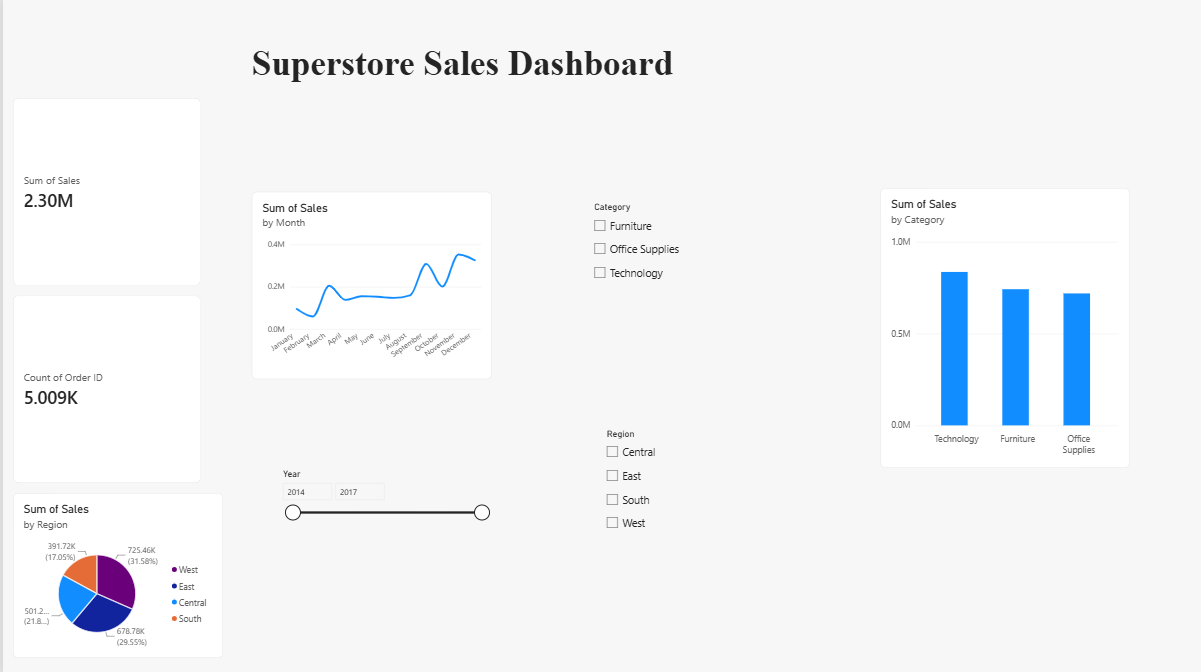

The dashboard page shown, as its layout file describes it:
{"tool":"powerbi","page":{"name":"Page 1","canvas":[1920,1080],"ordinal":0},"visuals":[{"type":"cardVisual","fields":{"Data":["Sum(Sample - Superstore (2).Sales)"]},"box":[16,160,300,300],"z":1000},{"type":"cardVisual","fields":{"Data":["Count(Sample - Superstore (2).Order ID)"]},"box":[16,476,300,300],"z":1001},{"type":"clusteredColumnChart","fields":{"Category":["Sample - Superstore (2).Category"],"Y":["Sum(Sample - Superstore (2).Sales)"]},"box":[1404,304,398,448],"z":1002},{"type":"lineChart","fields":{"Category":["Sample - Superstore (2).Order Date.Variation.Date Hierarchy.Month"],"Y":["Sum(Sample - Superstore (2).Sales)"]},"box":[398,310,384.3,300],"z":1003},{"type":"pieChart","fields":{"Category":["Sample - Superstore (2).Region"],"Y":["Sum(Sample - Superstore (2).Sales)"]},"box":[16,792,336,264],"z":1004},{"type":"slicer","fields":{"Values":["Sample - Superstore (2).Region"]},"box":[958,688,299,300],"z":1005},{"type":"slicer","fields":{"Values":["Sample - Superstore (2).Category"]},"box":[938,326,352,334],"z":1006},{"type":"slicer","fields":{"Values":["Sample - Superstore (2).Order Date.Variation.Date Hierarchy.Year"]},"box":[440,752,342,172],"z":1007},{"type":"textbox","box":[398,72,860,228],"z":1008}]}

Visuals, with their boxes in screenshot pixels (x1, y1, x2, y2), scaled from the page's 1920x1080 canvas onto the 1201x672 screenshot:
cardVisual - Sum(Sample - Superstore (2).Sales): {"x1": 10, "y1": 100, "x2": 198, "y2": 286}
cardVisual - Count(Sample - Superstore (2).Order ID): {"x1": 10, "y1": 296, "x2": 198, "y2": 483}
clusteredColumnChart - Sample - Superstore (2).Category x Sum(Sample - Superstore (2).Sales): {"x1": 878, "y1": 189, "x2": 1127, "y2": 468}
lineChart - Sample - Superstore (2).Order Date.Variation.Date Hierarchy.Month x Sum(Sample - Superstore (2).Sales): {"x1": 249, "y1": 193, "x2": 489, "y2": 380}
pieChart - Sample - Superstore (2).Region x Sum(Sample - Superstore (2).Sales): {"x1": 10, "y1": 493, "x2": 220, "y2": 657}
slicer - Sample - Superstore (2).Region: {"x1": 599, "y1": 428, "x2": 786, "y2": 615}
slicer - Sample - Superstore (2).Category: {"x1": 587, "y1": 203, "x2": 807, "y2": 411}
slicer - Sample - Superstore (2).Order Date.Variation.Date Hierarchy.Year: {"x1": 275, "y1": 468, "x2": 489, "y2": 575}
textbox: {"x1": 249, "y1": 45, "x2": 787, "y2": 187}
